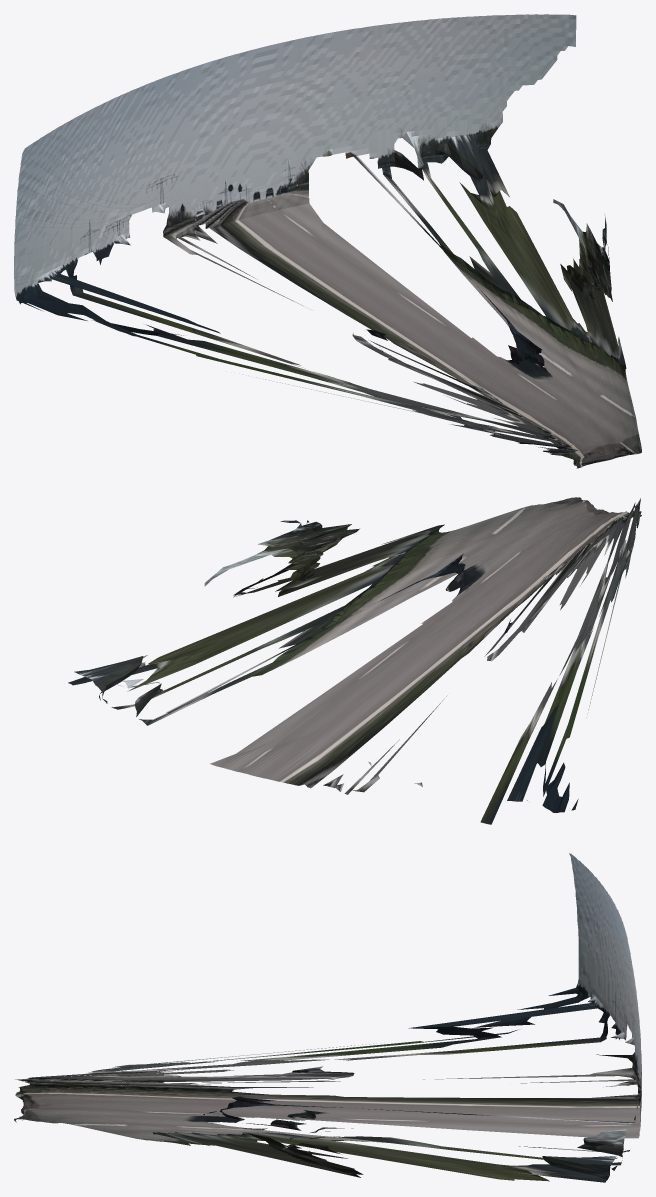
3 renders of one model, top to bottom at view 1: azimuth 30°, elevation 25°; view 2: azimuth 150°, elevation 25°; view 3: azimuth 270°, elevation 25°, orthographic. The views are drawn at different scales.
Visible parts, largest first — view 1: defaultobject; view 2: defaultobject; view 3: defaultobject.
Part boxes in pixels (x1,y1,x2,y2): defaultobject: (14, 14, 641, 468); defaultobject: (68, 497, 641, 824); defaultobject: (14, 853, 641, 1182).
Size of the model in its own units: 41 by 13.31 by 44.65.
1 material, 1 textured.
